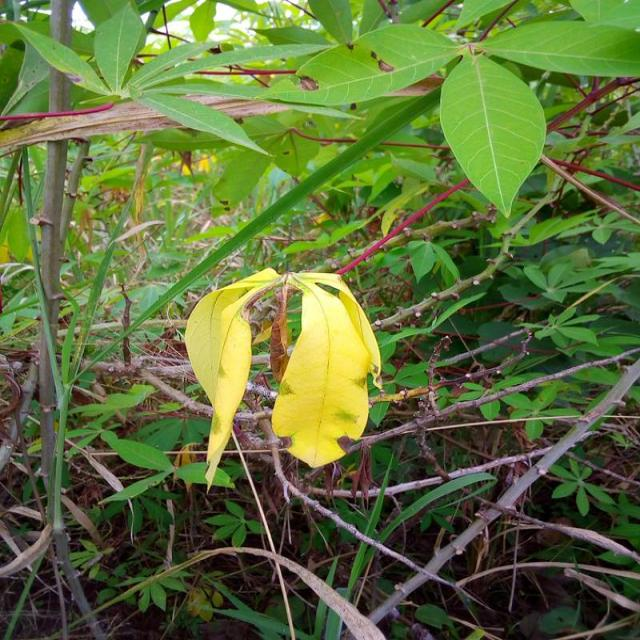cassava leaf: (184, 266, 382, 492), (270, 272, 380, 468), (438, 49, 546, 219)
